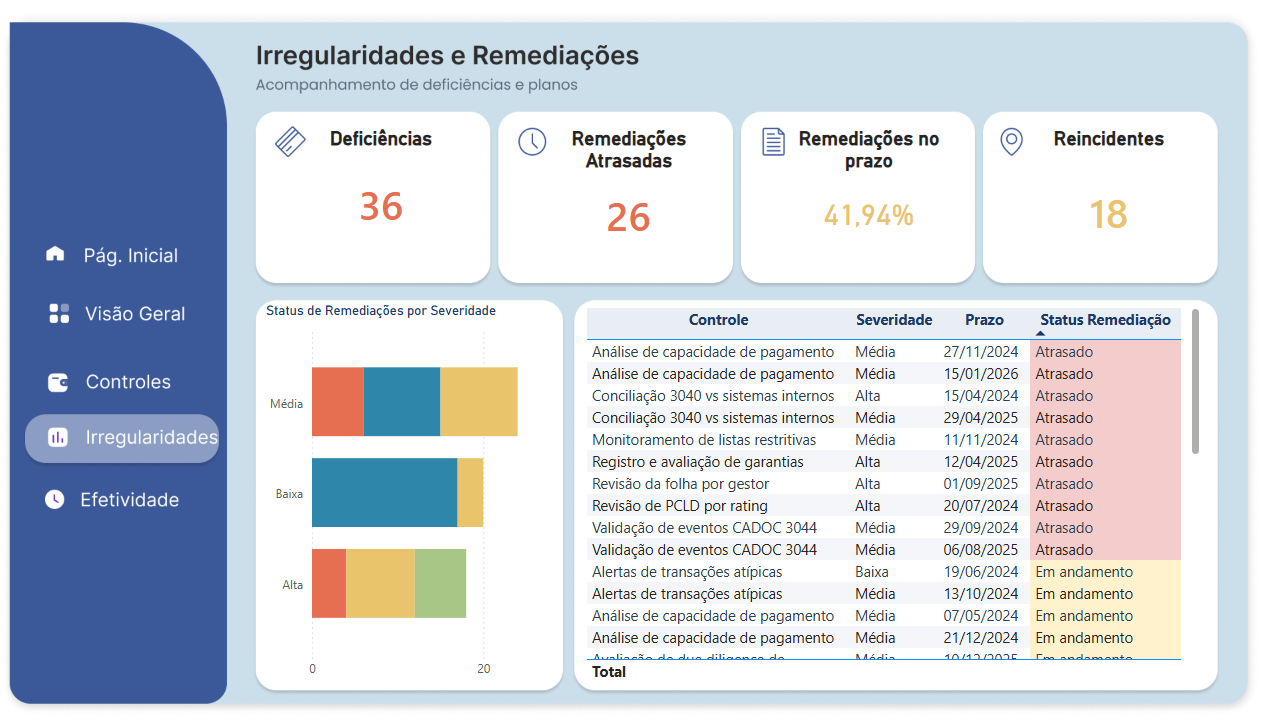

Layout of this report page (visuals, bound fields, positions):
{"tool":"powerbi","page":{"name":"Irregularidades","canvas":[1280,720],"ordinal":3},"visuals":[{"type":"cardVisual","title":"Deficiências","fields":{"Data":["_medidas.Deficiencias Abertas"]},"box":[304,128,176,128],"z":0},{"type":"cardVisual","title":"Remediações Atrasadas","fields":{"Data":["_medidas.Remediacoes Atrasadas"]},"box":[544,128,192,128],"z":1000},{"type":"card","title":"Remediações no prazo","fields":{"Values":["_medidas.Remediacoes no Prazo"]},"box":[784,128,192,128],"z":2000},{"type":"cardVisual","title":"Reincidentes","fields":{"Data":["_medidas.Controles Reincidentes"]},"box":[1008,128,224,144],"z":3000},{"type":"barChart","title":"Status de Remediações por Severidade","fields":{"Category":["fato_plano_remediacao.severidade"],"Y":["_medidas.total_testes"],"Series":["fato_plano_remediacao.status_remediacao"]},"box":[272,304,320,384],"z":4000},{"type":"tableEx","fields":{"Values":["dim_controle.nome_controle","fato_plano_remediacao.severidade","fato_plano_remediacao.data_prazo","fato_plano_remediacao.status_remediacao"]},"box":[592,304,624,384],"z":5000},{"type":"actionButton","box":[48,224,160,48],"z":6000},{"type":"actionButton","box":[48,288,160,48],"z":7000},{"type":"actionButton","box":[48,368,176,32],"z":8000},{"type":"actionButton","box":[48,480,176,48],"z":9000}]}

Visuals, with their boxes on the page's 1280x720 design canvas (x1, y1, x2, y2). These are canvas units, not pixel positions in the 1264x728 screenshot, which may show the page scaled, cropped or inside an application window:
"Deficiências" cardVisual: x1=304, y1=128, x2=480, y2=256
"Remediações Atrasadas" cardVisual: x1=544, y1=128, x2=736, y2=256
"Remediações no prazo" card: x1=784, y1=128, x2=976, y2=256
"Reincidentes" cardVisual: x1=1008, y1=128, x2=1232, y2=272
"Status de Remediações por Severidade" barChart: x1=272, y1=304, x2=592, y2=688
tableEx - dim_controle.nome_controle x fato_plano_remediacao.severidade: x1=592, y1=304, x2=1216, y2=688
actionButton: x1=48, y1=224, x2=208, y2=272
actionButton: x1=48, y1=288, x2=208, y2=336
actionButton: x1=48, y1=368, x2=224, y2=400
actionButton: x1=48, y1=480, x2=224, y2=528
